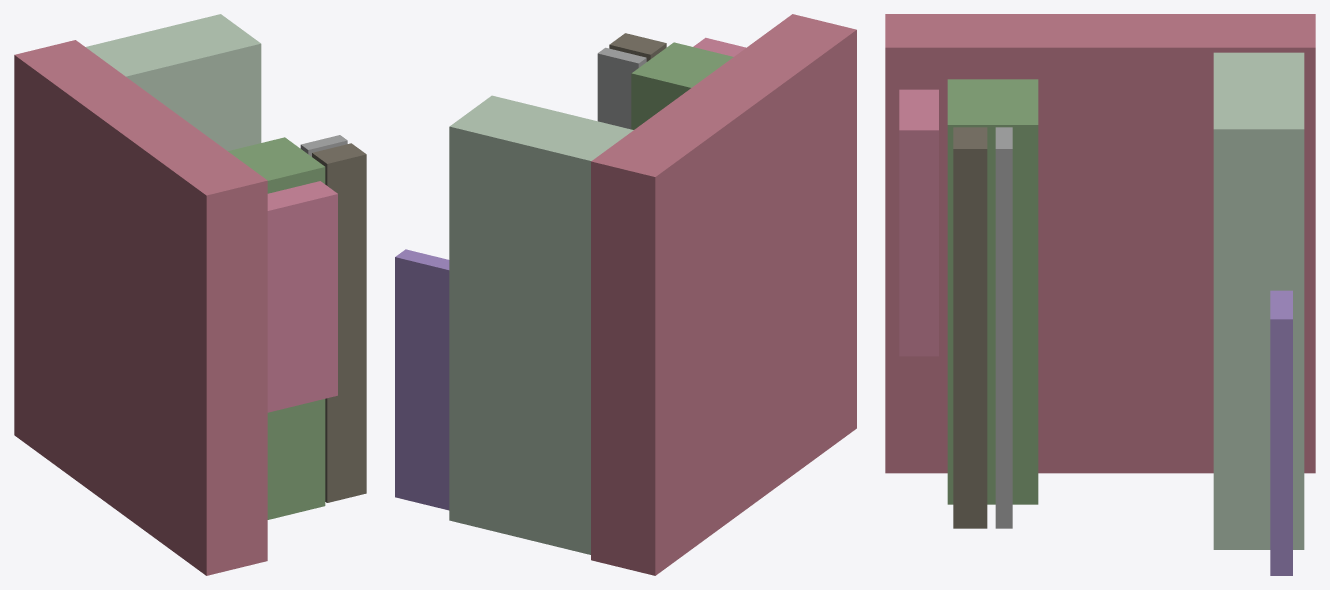
Rendered from 199526_pred.glb.
3 renders of one model, left to right at view 1: azimuth 30°, elevation 25°; view 2: azimuth 150°, elevation 25°; view 3: azimuth 270°, elevation 25°, orthographic. The views are drawn at different scales.
Visible parts, largest first — view 1: world; view 2: world; view 3: world.
Boxes of the visible parts, x1=… form: world: x1=14, y1=14, x2=366, y2=575; world: x1=395, y1=14, x2=856, y2=575; world: x1=885, y1=14, x2=1315, y2=575.
Bounding box in the file's own units: 5.9 × 8.3 × 7.6.
